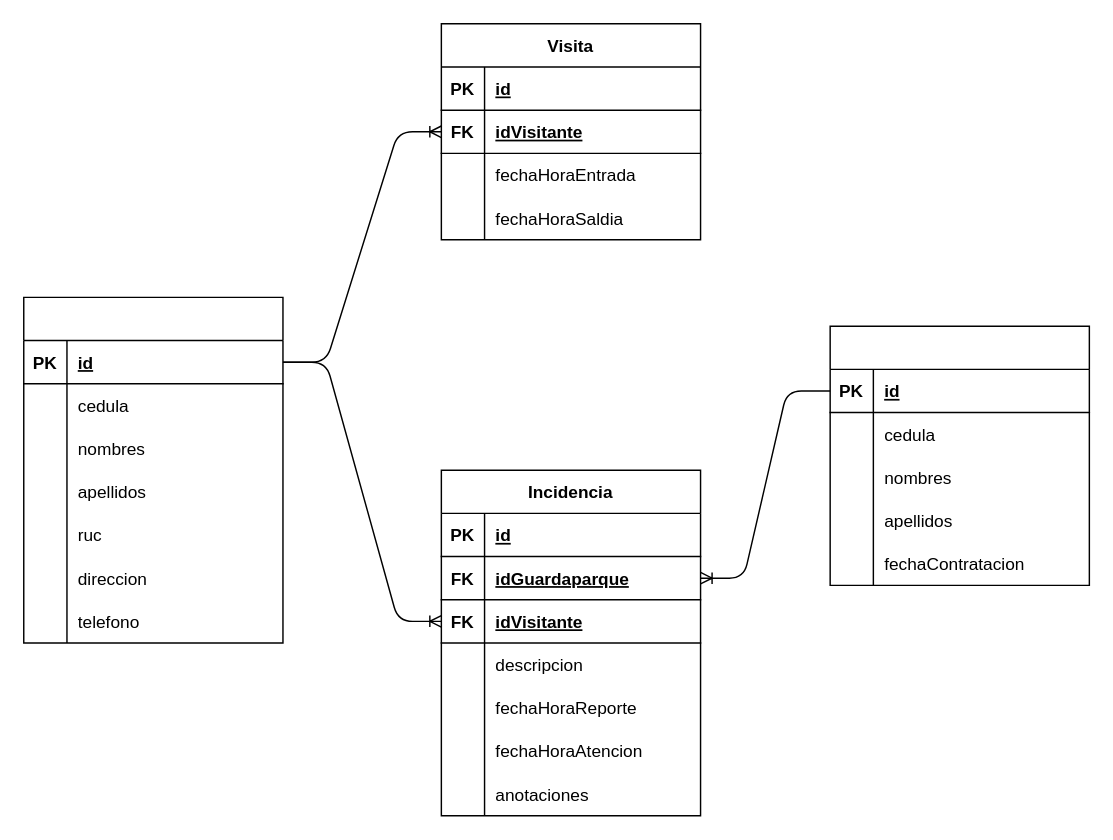
Image size: 1113x840. Some labels were removed from this diagram. The box of each missing label's shape, as (x1, y1, x2, y2) in pixels:
Guardaparque: (829, 325, 1089, 585)
Visitante: (22, 296, 283, 643)
